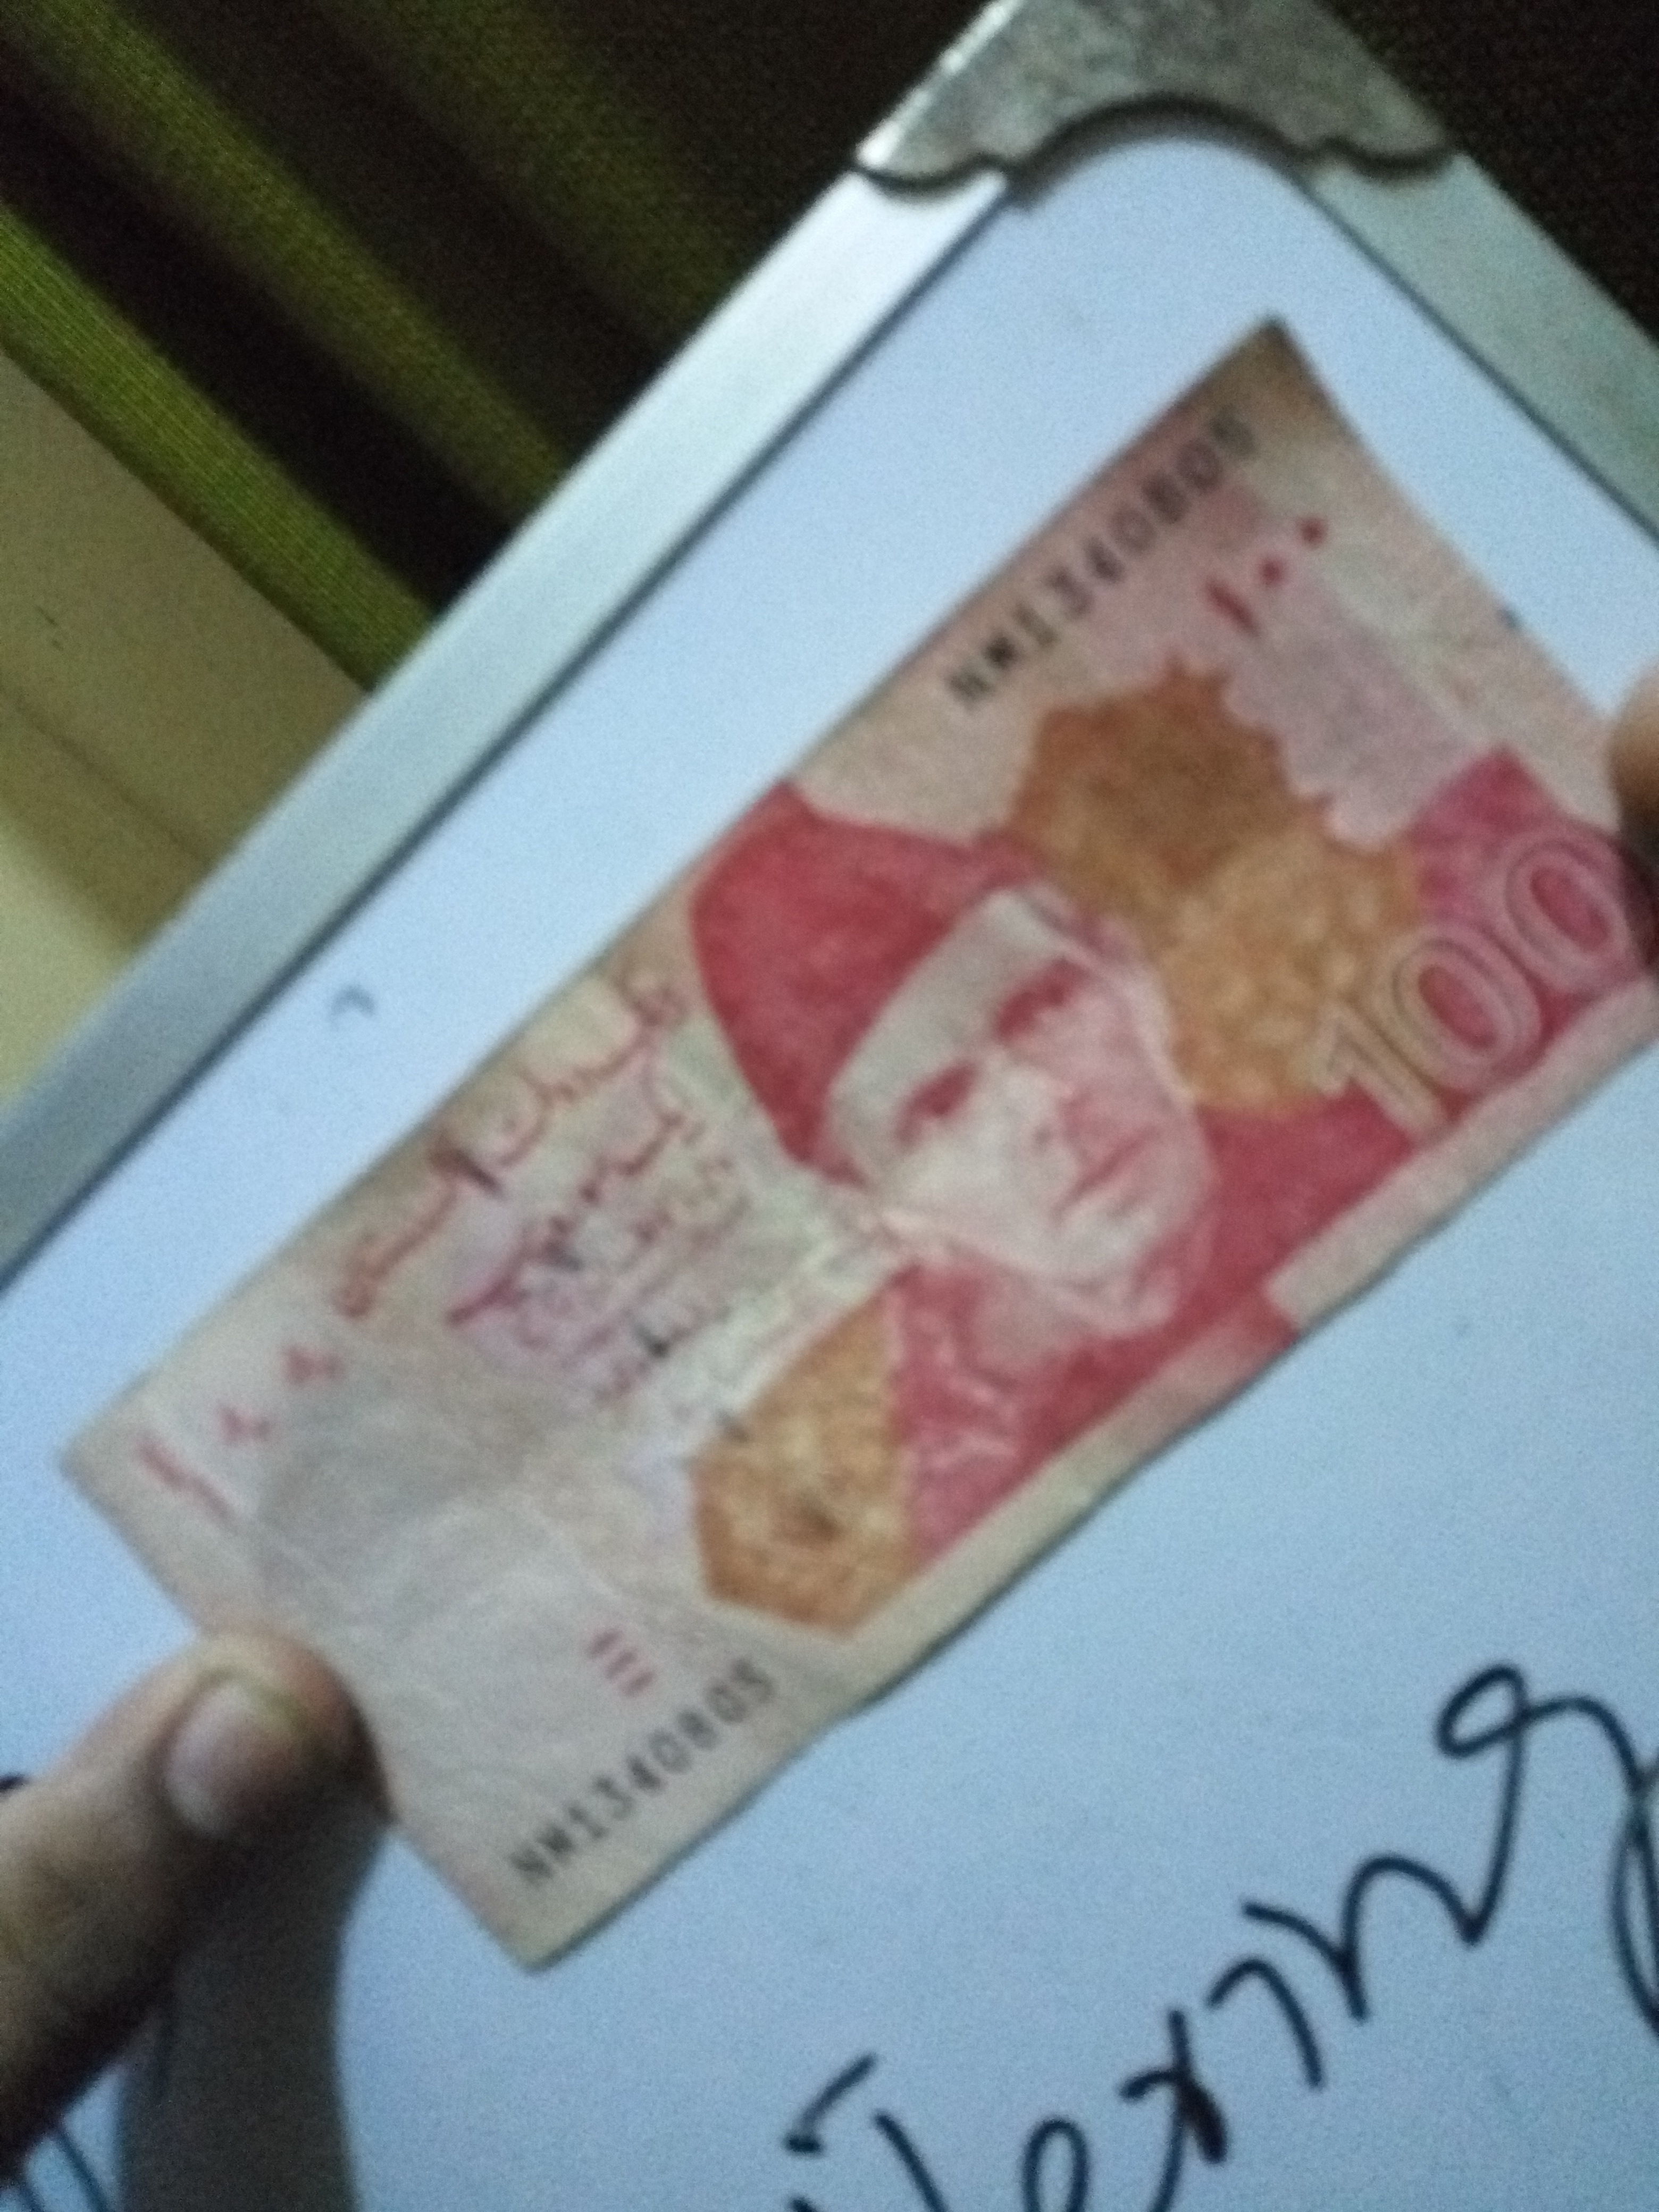100 rupee: (38, 293, 1643, 1982)
